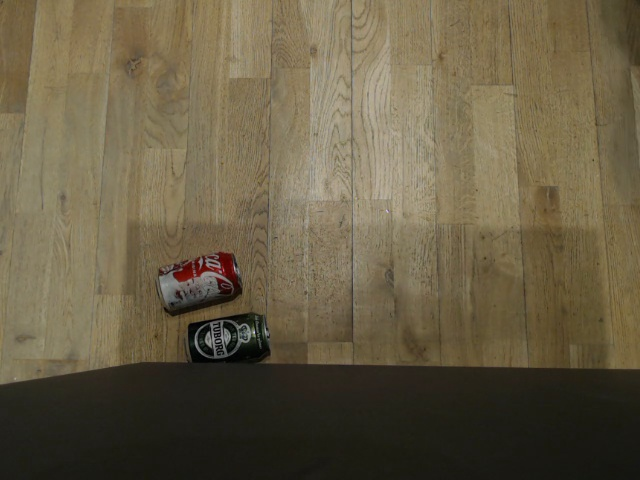beer: (183, 312, 273, 364)
cola: (155, 251, 244, 315)
